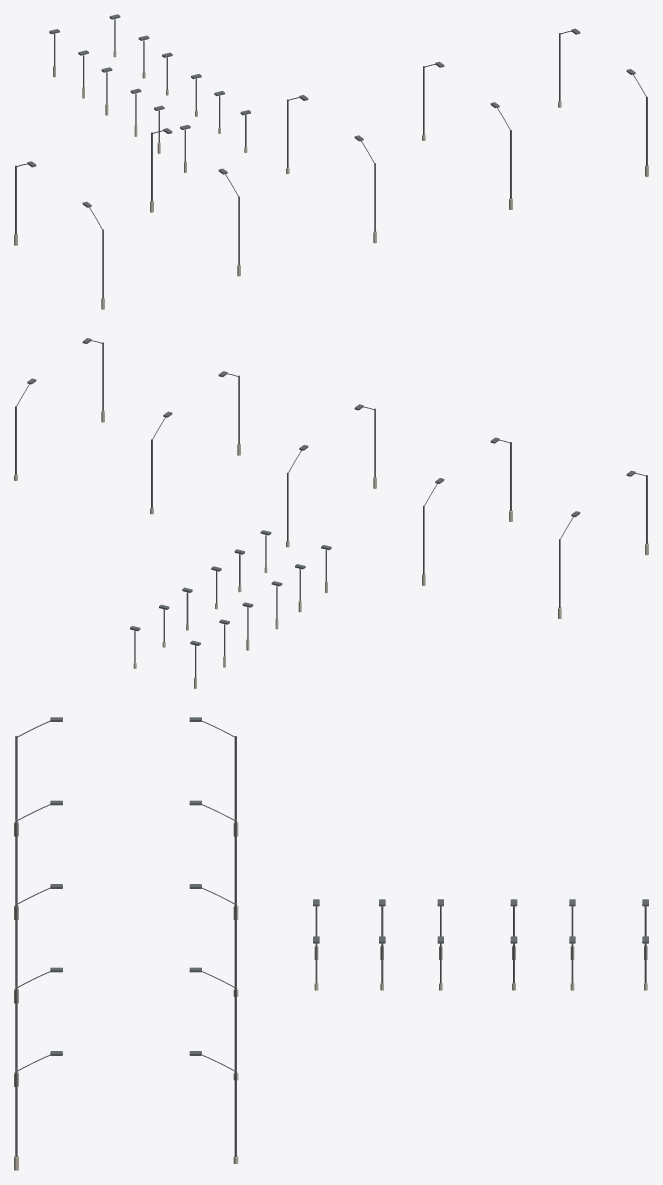
3 views of the same model, one above another, from view 1: azimuth 30°, elevation 25°; view 2: azimuth 150°, elevation 25°; view 3: azimuth 270°, elevation 25° (orthographic). The views are drawn at different scales.
Visible parts, largest first — view 1: buildings_s_-10_5_Dark_Metal, buildings_s_-10_5_Warm_Limestone; view 2: buildings_s_-10_5_Dark_Metal, buildings_s_-10_5_Warm_Limestone; view 3: buildings_s_-10_5_Dark_Metal, buildings_s_-10_5_Warm_Limestone.
Part boxes in pixels (x1,y1,x2,y2): buildings_s_-10_5_Dark_Metal: [15, 14, 647, 298]; buildings_s_-10_5_Warm_Limestone: [14, 51, 648, 309]; buildings_s_-10_5_Dark_Metal: [15, 338, 647, 677]; buildings_s_-10_5_Warm_Limestone: [14, 410, 648, 688]; buildings_s_-10_5_Dark_Metal: [15, 717, 648, 1156]; buildings_s_-10_5_Warm_Limestone: [14, 821, 647, 1170].
Bounding box in the file's own units: 109 × 17.75 × 86.79.
